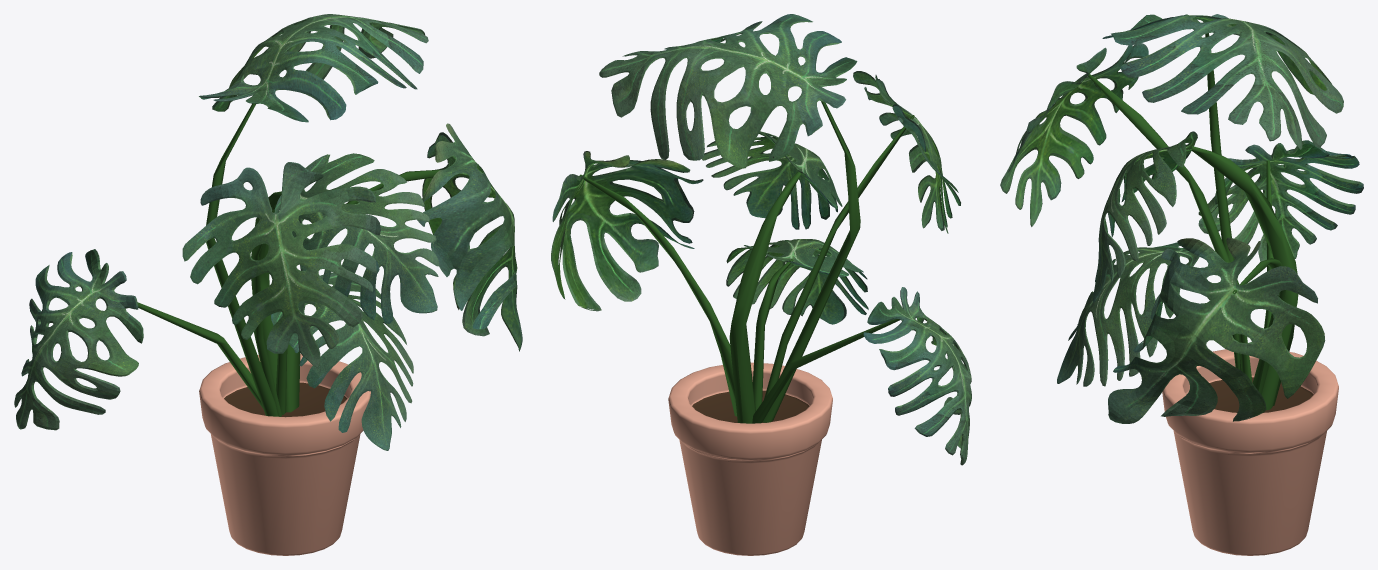
File: monstera.gltf
3 views of the same model, side by side, from view 1: azimuth 30°, elevation 25°; view 2: azimuth 150°, elevation 25°; view 3: azimuth 270°, elevation 25° (orthographic). The views are drawn at different scales.
Visible parts, largest first — view 1: monstera, Circle; view 2: monstera, Circle; view 3: monstera, Circle.
Boxes of the visible parts, x1,y1,x2,y2 form: monstera: (14,14,522,450); Circle: (199,353,370,555); monstera: (551,14,971,465); Circle: (668,362,832,555); monstera: (1000,14,1363,423); Circle: (1162,349,1338,555).
Size of the model in its own units: 7.45 by 7.85 by 5.
5 materials, 2 textured.
